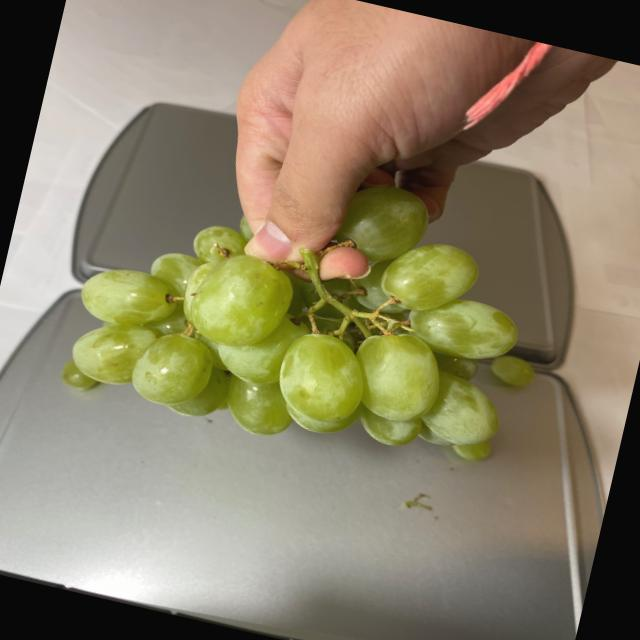grapes: (59, 124, 566, 473)
